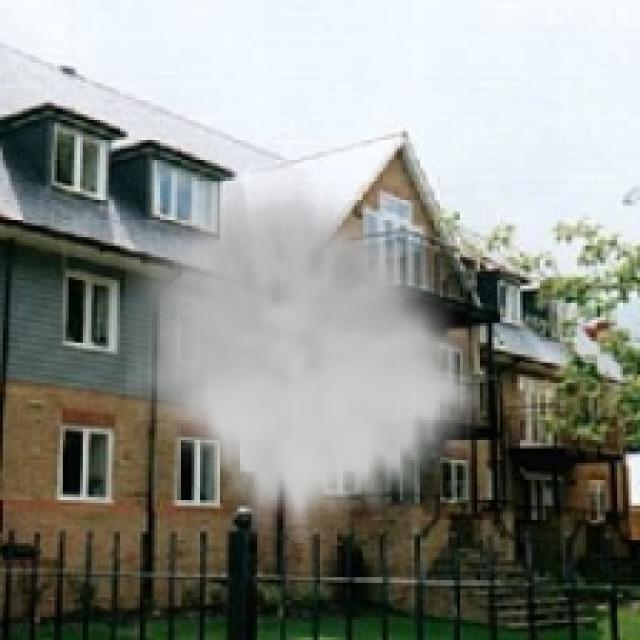smoke: (126, 168, 480, 543)
